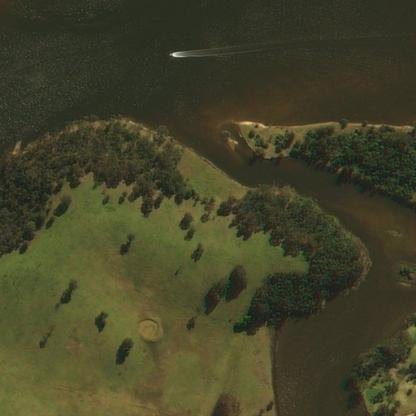ship: (161, 42, 181, 62)
